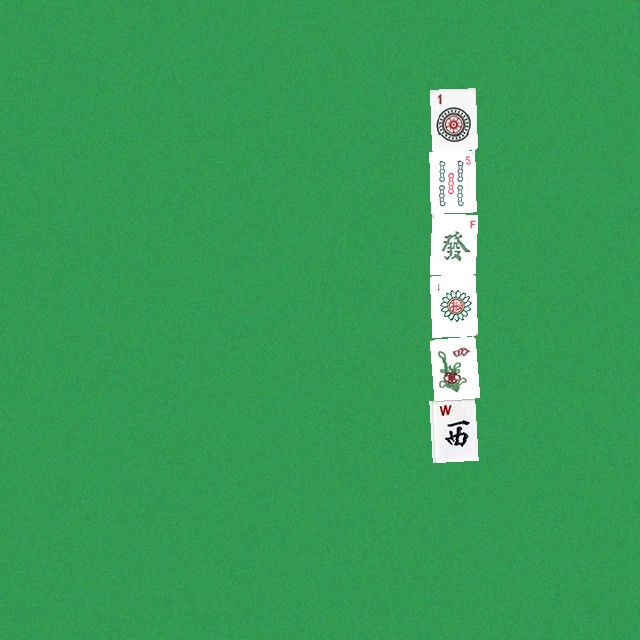tile: (429, 88, 475, 150), (429, 150, 475, 212), (429, 212, 475, 274), (429, 274, 475, 336), (429, 336, 475, 398), (429, 398, 475, 460)
